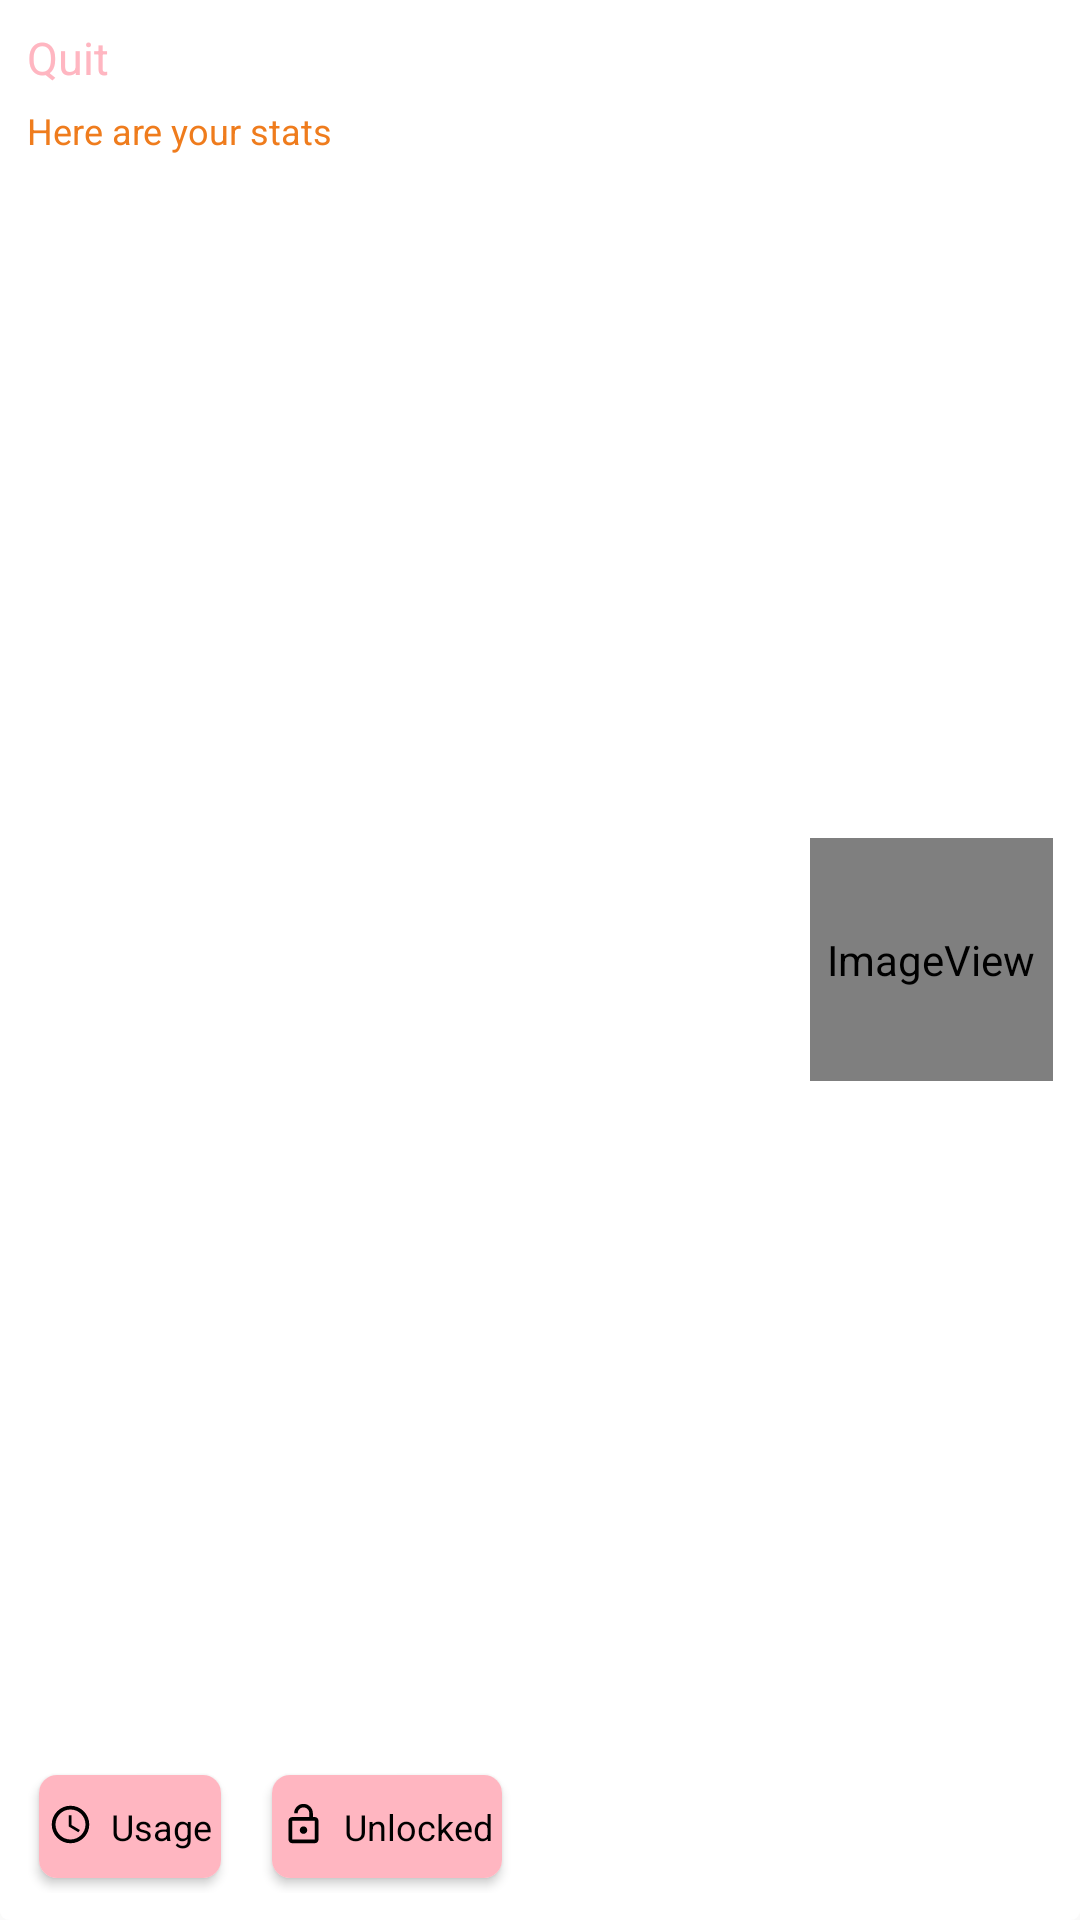

Screen size 1080x1920. Icon name, then its box in pixels as (x1, y1, x2, y2):
time: (51, 1805, 90, 1844)
